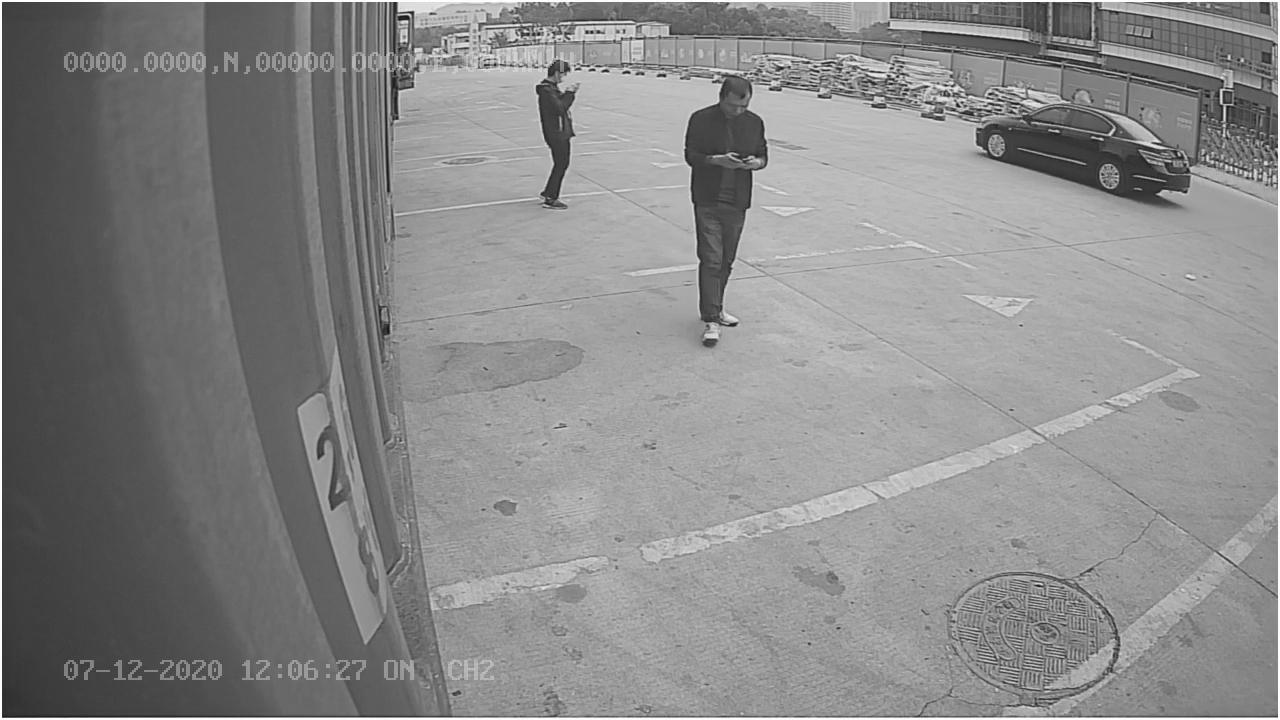person: (683, 72, 773, 348)
